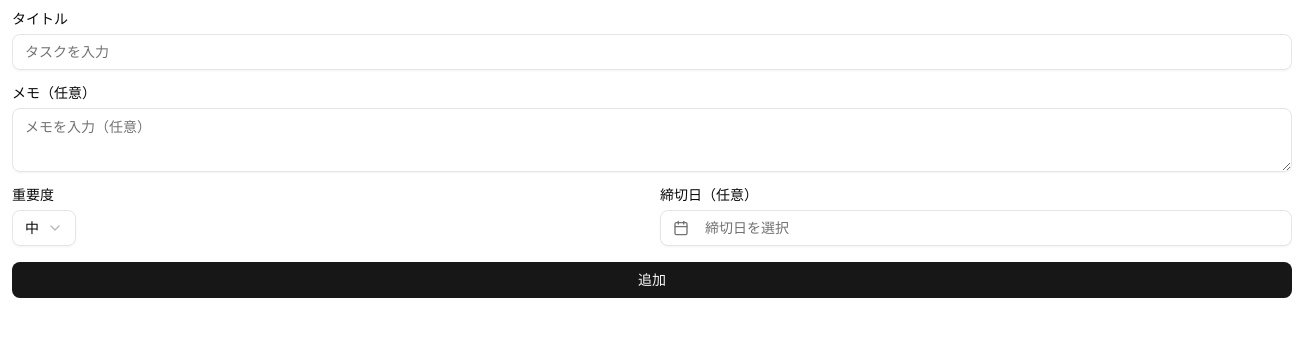
TodoForm › should show validation error for empty title
This screenshot has width=1304, height=343.
Click the button "追加" at (652, 280), box 12,262 -> 1292,298
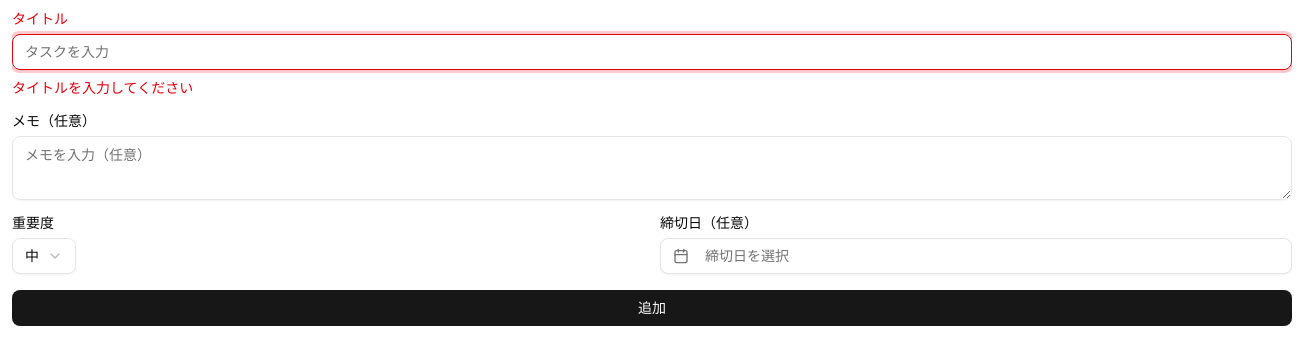
Expected: the text "タイトルを入力してください" is shown, 12,80 -> 193,96
